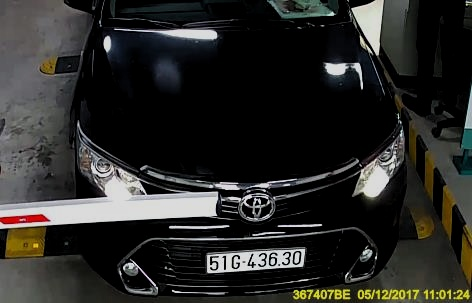plate: (201, 243, 310, 272)
